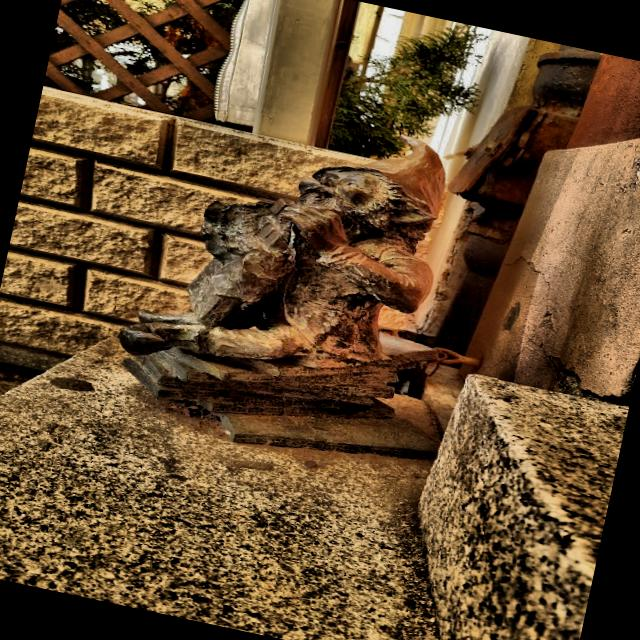Wedelek: (120, 137, 444, 457)
